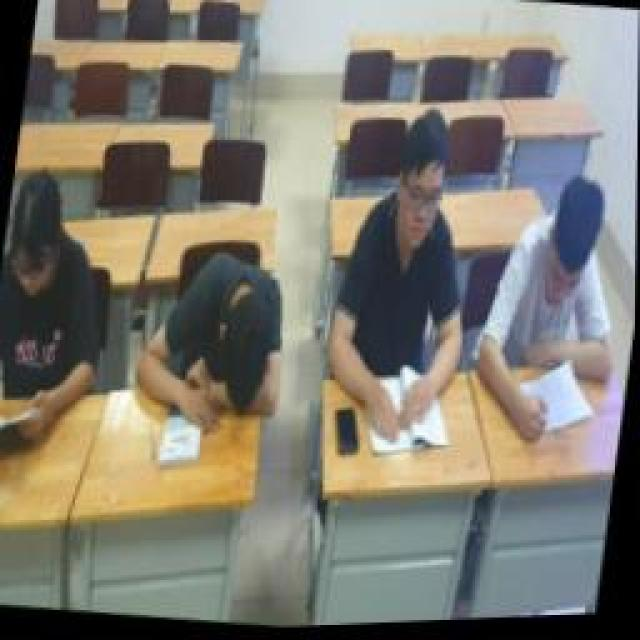sleep: (128, 245, 298, 440)
study: (313, 102, 495, 462), (472, 167, 638, 455), (0, 165, 125, 453)
